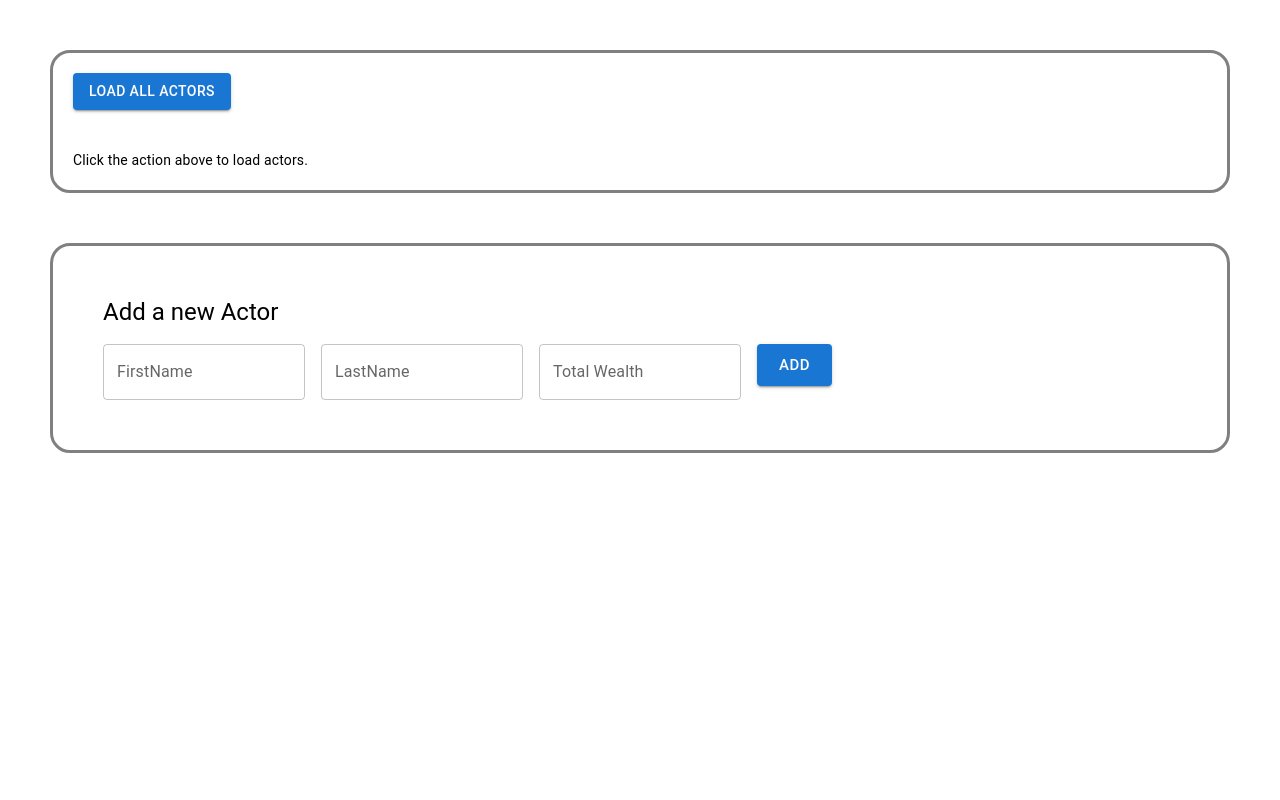
Test case: Actor Page tests › Add actor failure test
Click the button with test id "add_actor_button" at (794, 365), box 757,344 -> 832,386
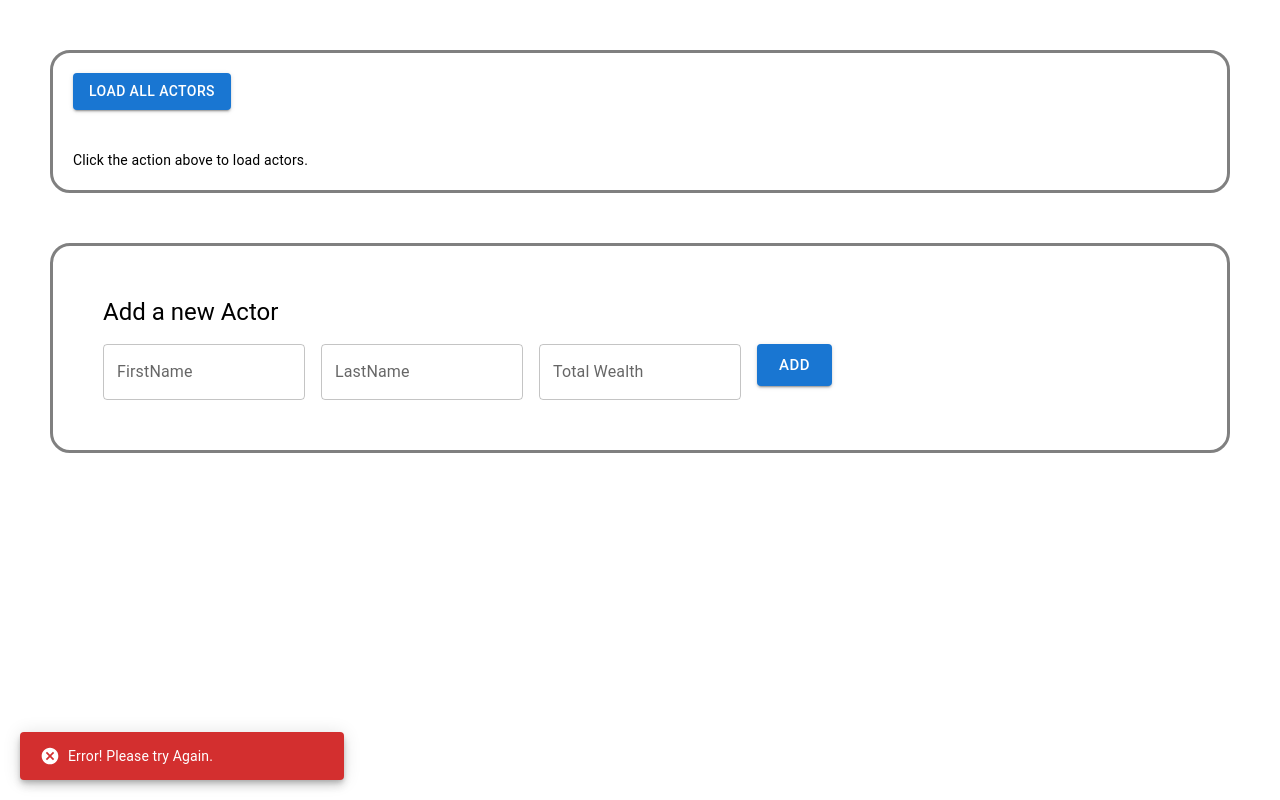
Now the text "Error! Please try Again." is shown, box 40,746 -> 213,766
